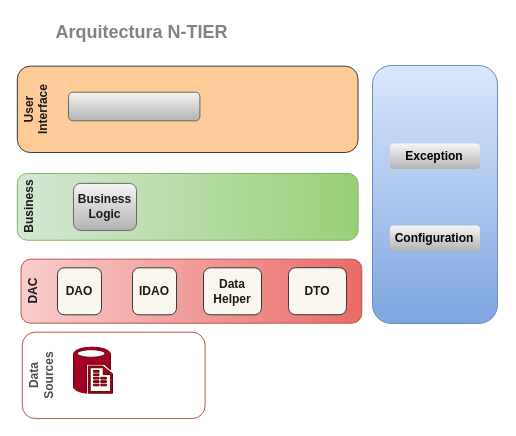
Image size: 516x436. Some labels were removed from this diagram. Each missing label, with the box of its shape:
Framework: (372, 64, 498, 324)
SQLITE: (72, 346, 112, 393)
UI Component: (68, 91, 200, 121)
